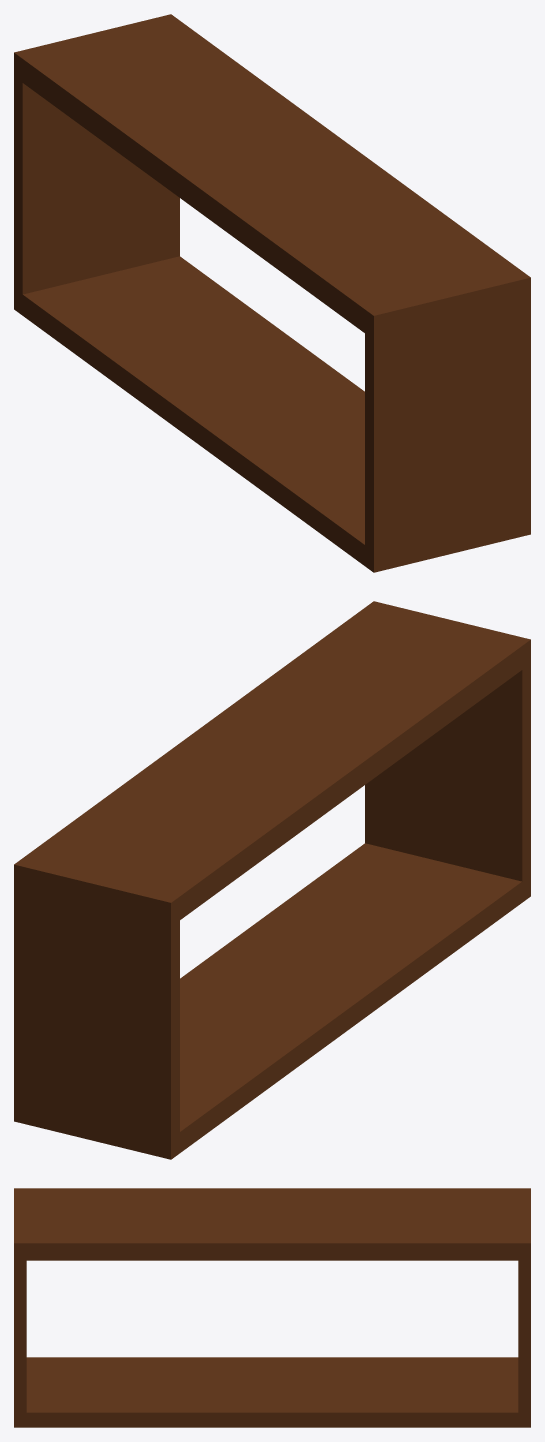
File: shelf.fbx
3 renders of one model, top to bottom at view 1: azimuth 30°, elevation 25°; view 2: azimuth 150°, elevation 25°; view 3: azimuth 270°, elevation 25°, orthographic. The views are drawn at different scales.
Parts seen in each view (by area): view 1: shelf; view 2: shelf; view 3: shelf.
Boxes of the visible parts, x1,y1,x2,y2 form: shelf: (14, 14, 530, 572); shelf: (14, 601, 530, 1159); shelf: (14, 1188, 530, 1427).
Bounding box in the file's own units: 27.36 × 42.74 × 109.
